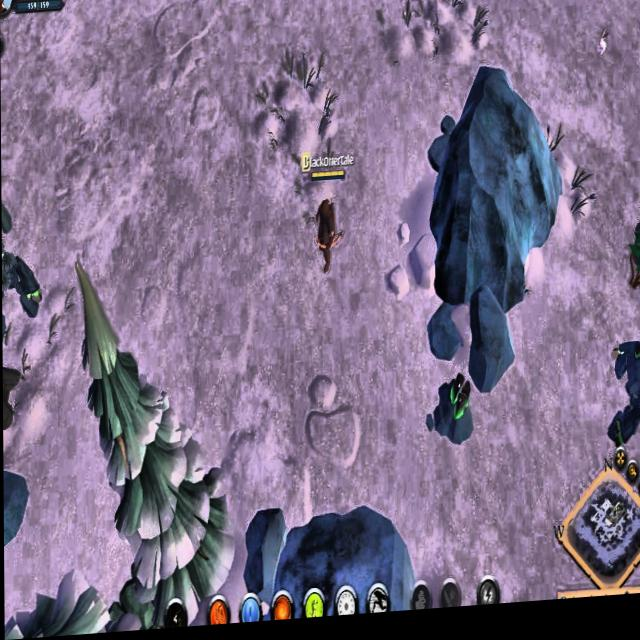tinore: (433, 376, 476, 454)
